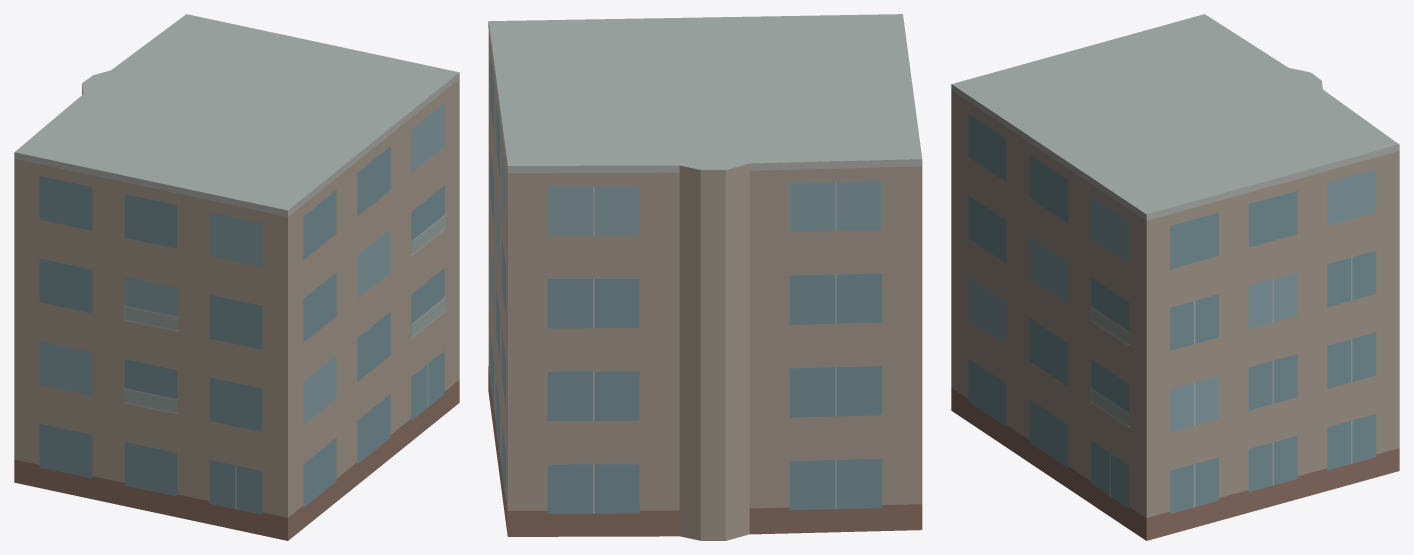
The model's file is survey-upis-32625339.glb.
The picture shows the model from 3 angles, left to right: view 1: azimuth 30°, elevation 25°; view 2: azimuth 150°, elevation 25°; view 3: azimuth 270°, elevation 25°; orthographic projection. The views are drawn at different scales.
Visible parts, largest first — view 1: survey-upis-32625339.tmp; view 2: survey-upis-32625339.tmp; view 3: survey-upis-32625339.tmp.
Boxes of the visible parts, x1=… form: survey-upis-32625339.tmp: x1=14, y1=14, x2=459, y2=540; survey-upis-32625339.tmp: x1=488, y1=14, x2=922, y2=540; survey-upis-32625339.tmp: x1=951, y1=14, x2=1399, y2=540.
Bounding box in the file's own units: 16.34 × 12.4 × 15.43.
